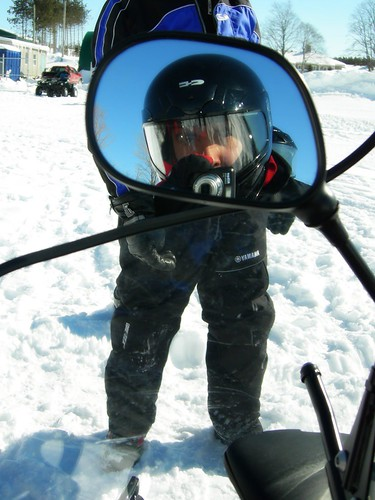helmet: (135, 60, 280, 162)
